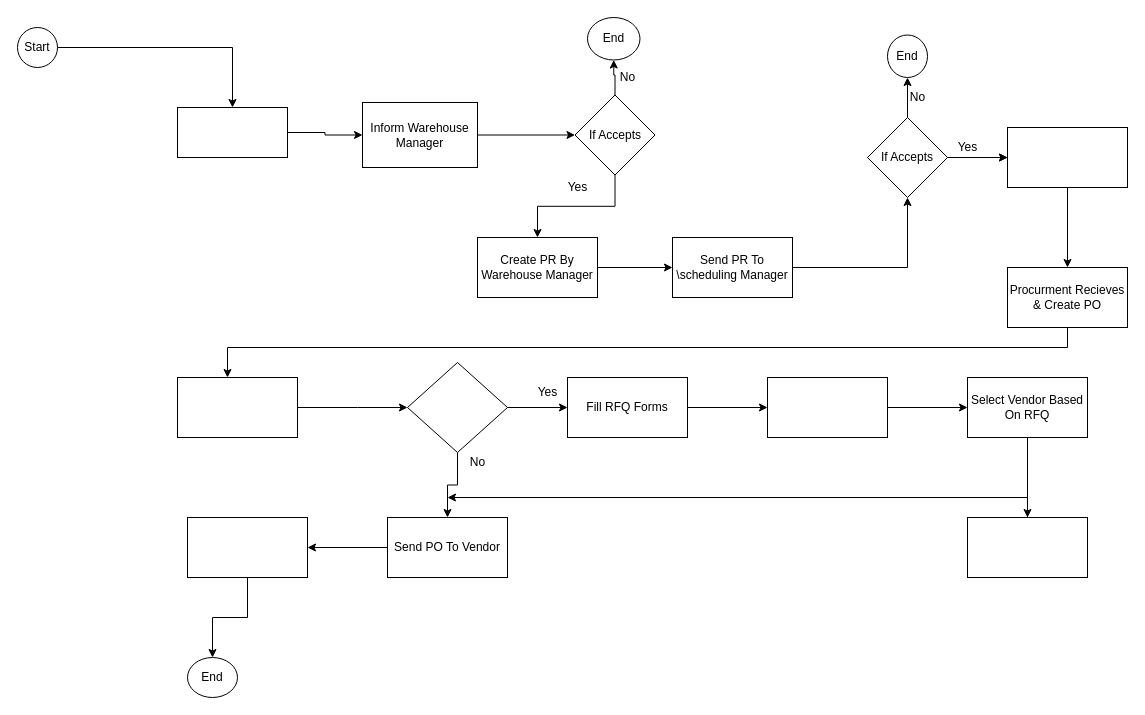
Image size: 1145x715. Some labels were removed from this diagram. Each missing label, with the centre of its shape:
"Assess Materials Inventory" goes at point (232, 132).
"If Needs RFQ" goes at point (457, 407).
"Investigate Vendors" goes at point (237, 407).
"Register Recieve Date And Process steps" goes at point (247, 547).
"Send PR To Procurment" goes at point (1067, 157).
"Send RFQ To Management" goes at point (827, 407).
"Send Selected RFQ To Procurment" goes at point (1027, 547).
